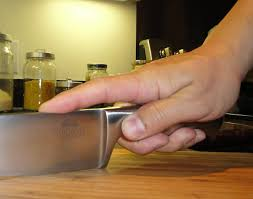knife: (1, 98, 251, 178)
